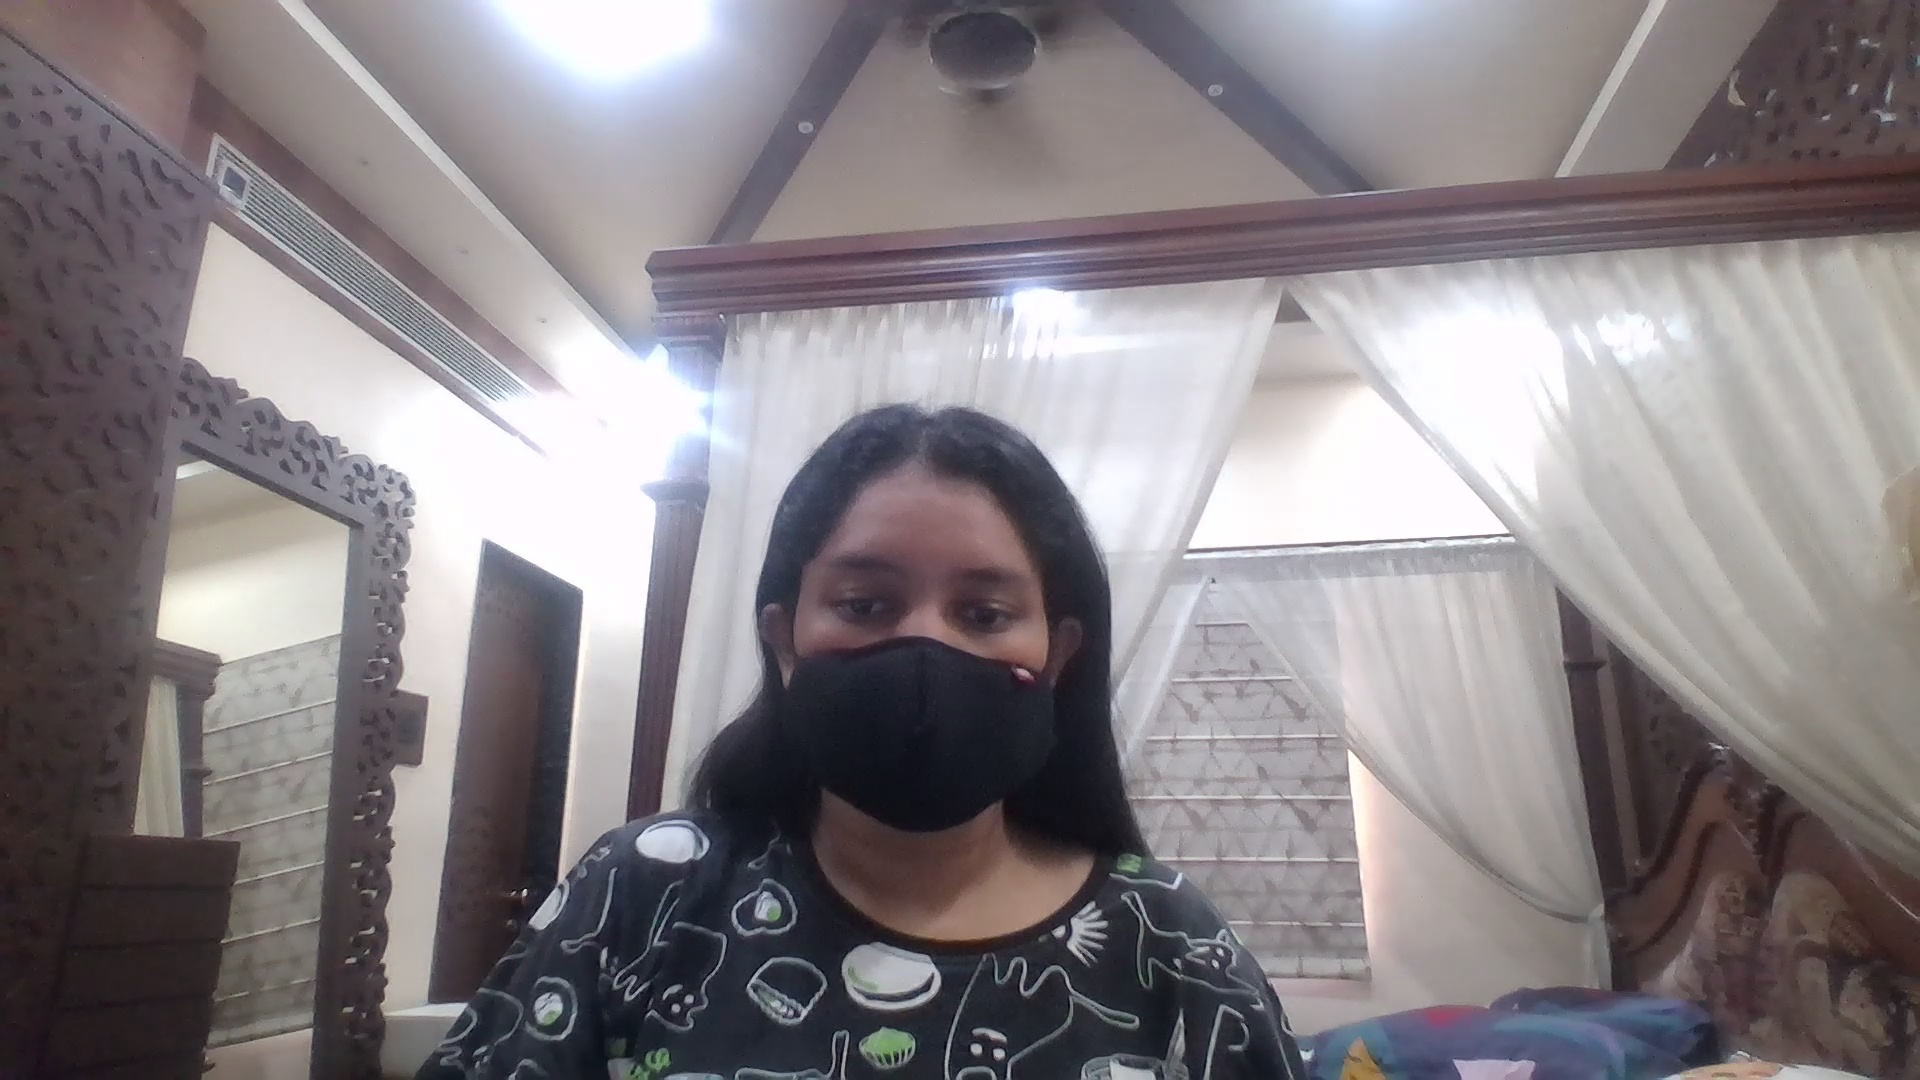Mask: (790, 642, 1064, 831)
